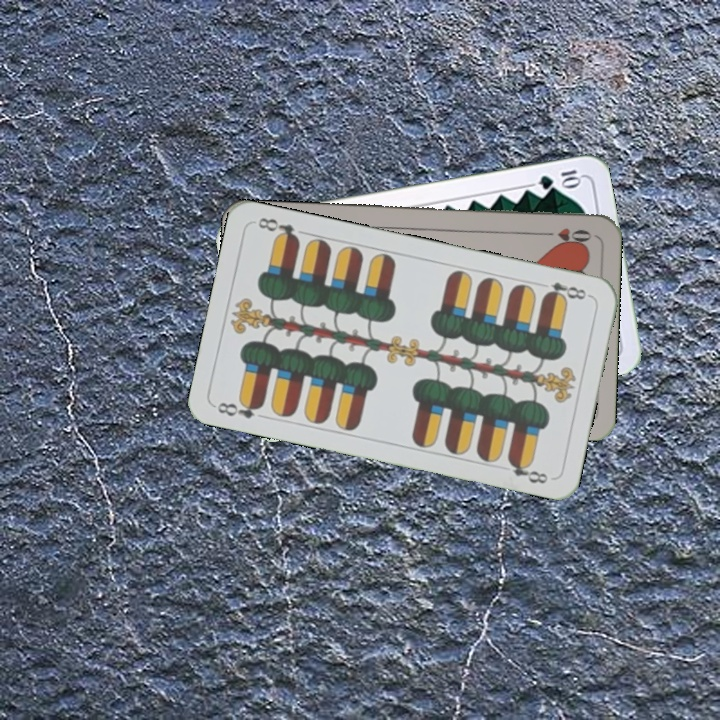E8: (540, 278, 593, 304), (213, 395, 266, 421)
G10: (535, 165, 584, 192)
HO: (536, 224, 595, 246)
